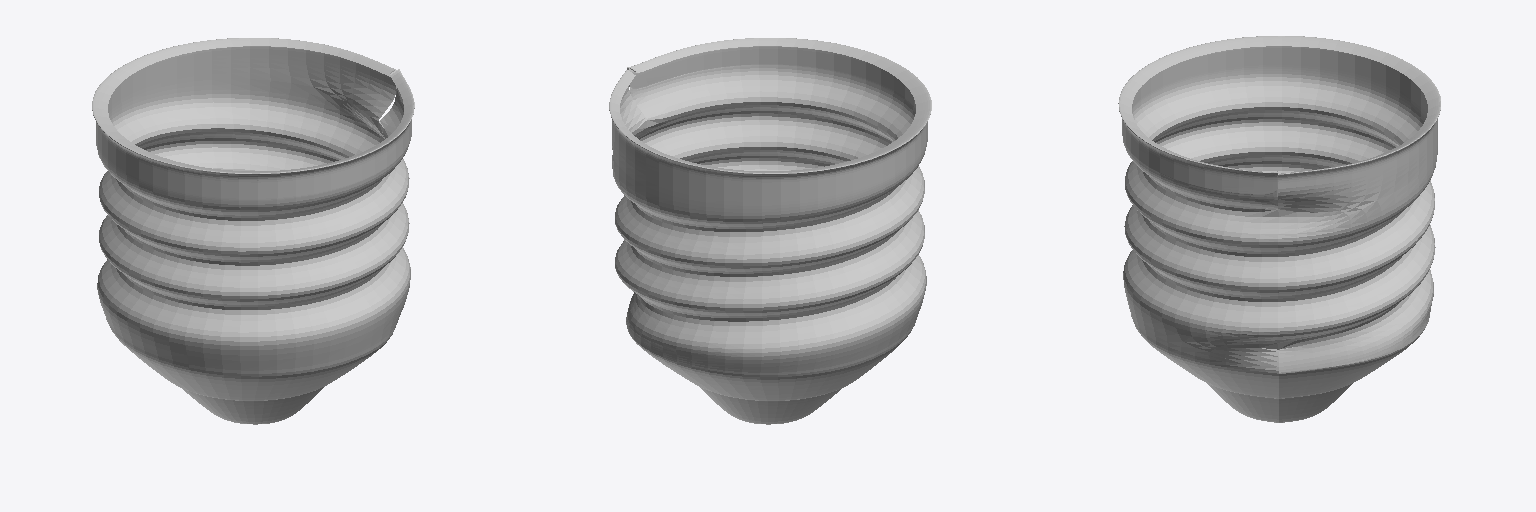
The model's file is Events-BulbVis.obj.
3 renders of one model, left to right at view 1: azimuth 30°, elevation 25°; view 2: azimuth 150°, elevation 25°; view 3: azimuth 270°, elevation 25°, orthographic.
Parts seen in each view (by area): view 1: Events-BulbVis_base_Mesh.002; view 2: Events-BulbVis_base_Mesh.002; view 3: Events-BulbVis_base_Mesh.002.
Boxes of the visible parts, x1,y1,x2,y2 form: Events-BulbVis_base_Mesh.002: [92, 38, 414, 424]; Events-BulbVis_base_Mesh.002: [609, 38, 931, 424]; Events-BulbVis_base_Mesh.002: [1118, 36, 1440, 422].
Size of the model in its own units: 0.1147 by 0.1178 by 0.1126.